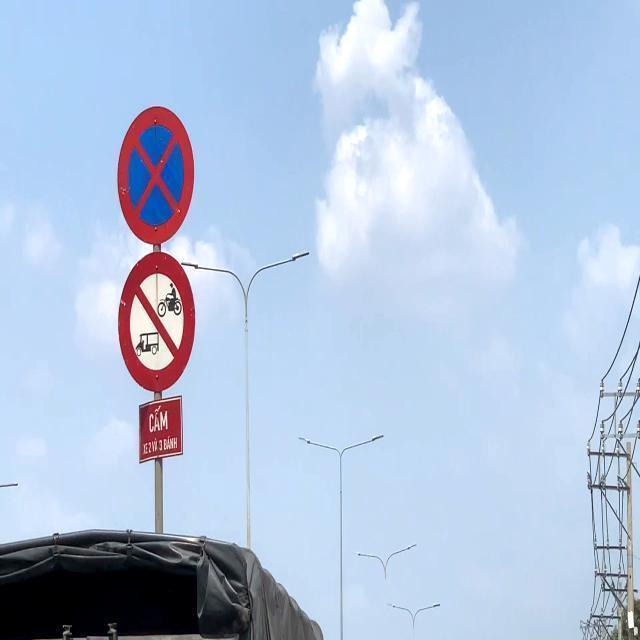130-cam-dung-va-do-xe: (120, 104, 193, 240)
